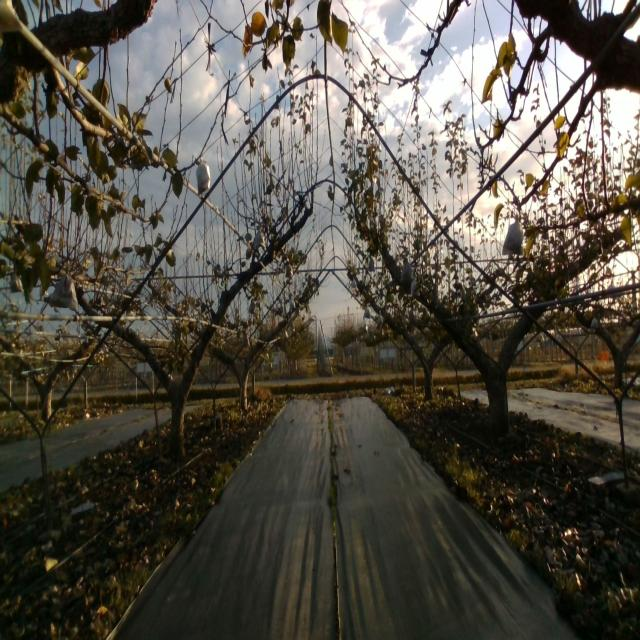pearbags: (502, 214, 524, 255), (196, 156, 211, 195), (400, 258, 413, 284), (253, 226, 266, 250)
